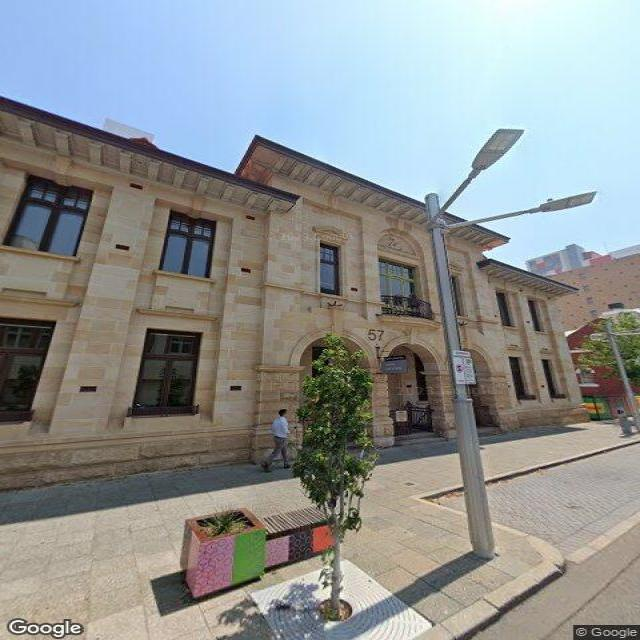steel-pole: (424, 191, 496, 559), (604, 320, 640, 431)
streetlight: (426, 129, 524, 222), (439, 189, 598, 231)
